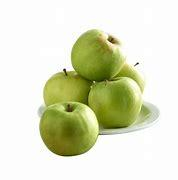apple: (67, 27, 136, 76), (39, 102, 102, 153), (92, 76, 145, 127), (45, 66, 92, 108)
